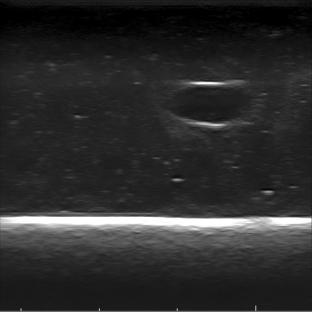vessel: (165, 81, 251, 129)
